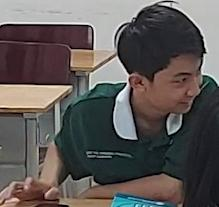Turning_Around: (4, 2, 212, 202)
